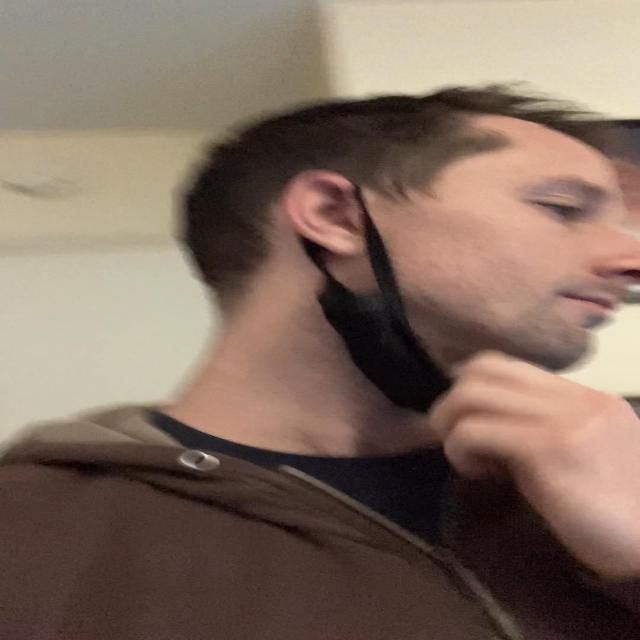no-helmet: (296, 107, 640, 382)
